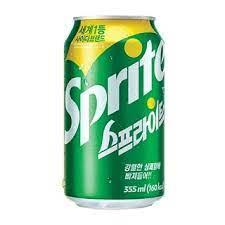sprite: (62, 13, 169, 210)
